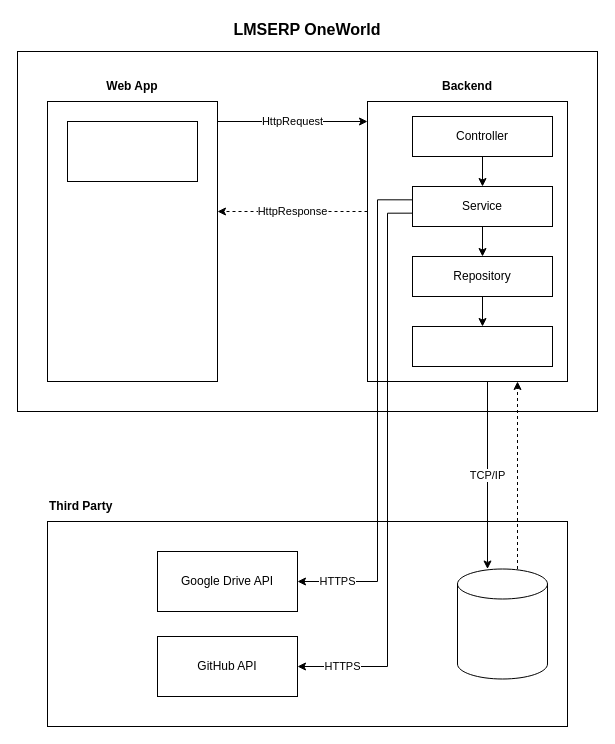
Some shapes in this 615 by 744 pixel diagram are drawn without their labels. The box of each missing label's shape, as (x1, y1, x2, y2) in pixels:
Entity: (412, 326, 552, 366)
Filament Admin Panel: (66, 120, 198, 182)
MySQL: (456, 568, 548, 679)
